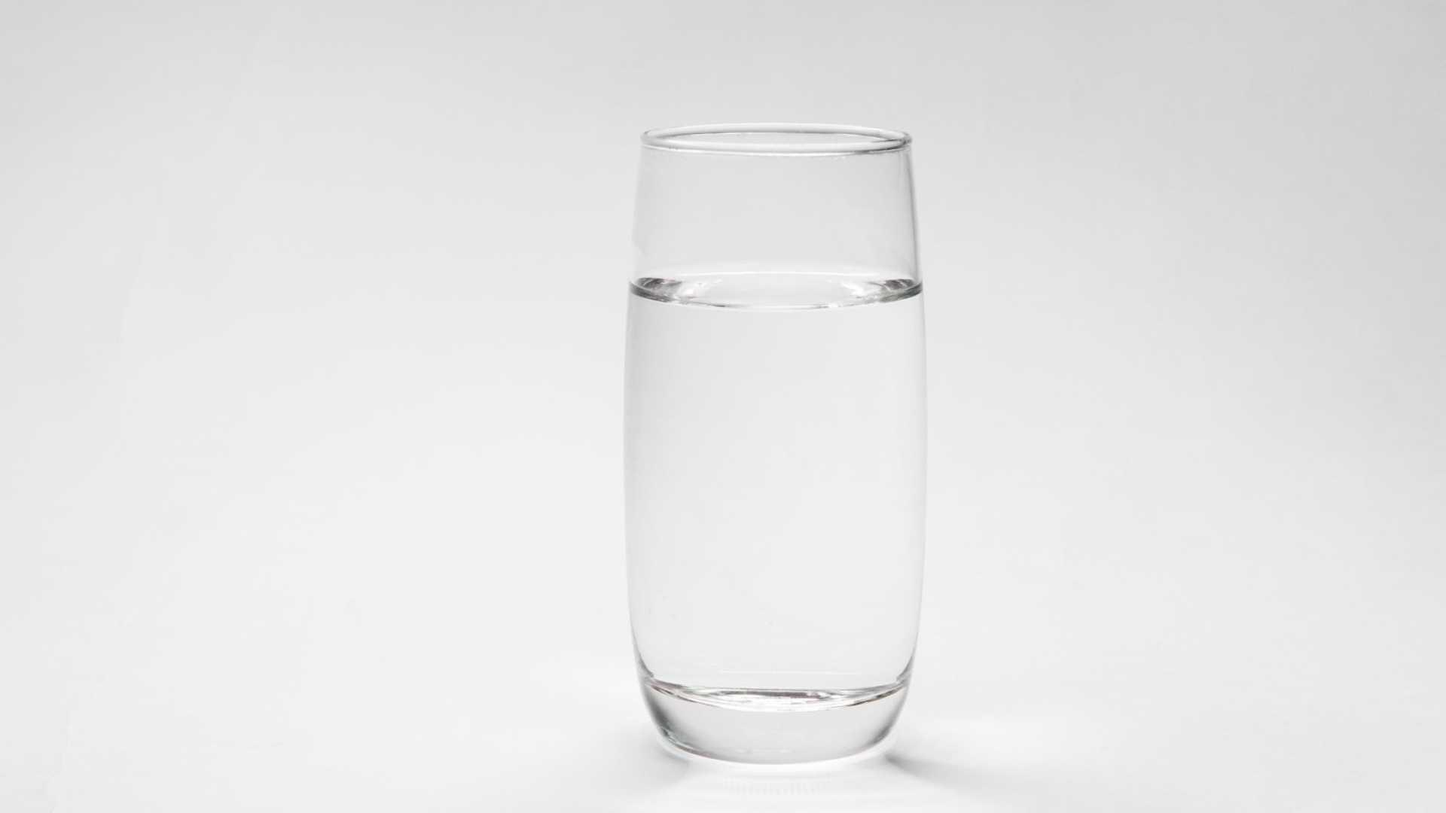glass-normal: (617, 118, 936, 766)
